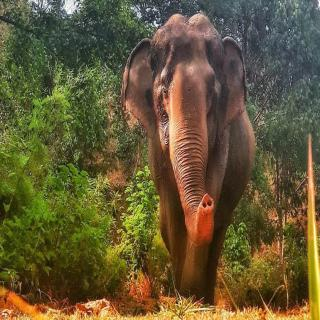Elephant: (115, 7, 261, 310)
